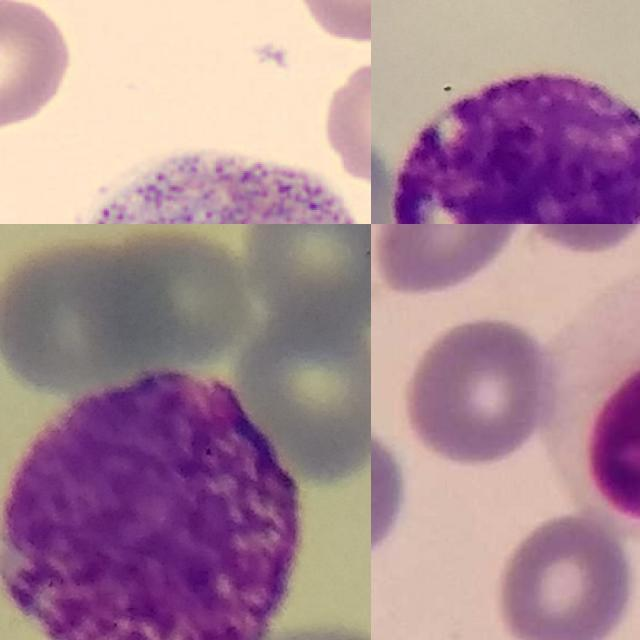Basophil: (0, 369, 304, 640), (394, 69, 640, 224)
Lymphocyte: (541, 256, 640, 540)
Monocyte: (65, 128, 371, 224)
RBC: (0, 0, 77, 132), (315, 46, 371, 190), (287, 0, 371, 46)
